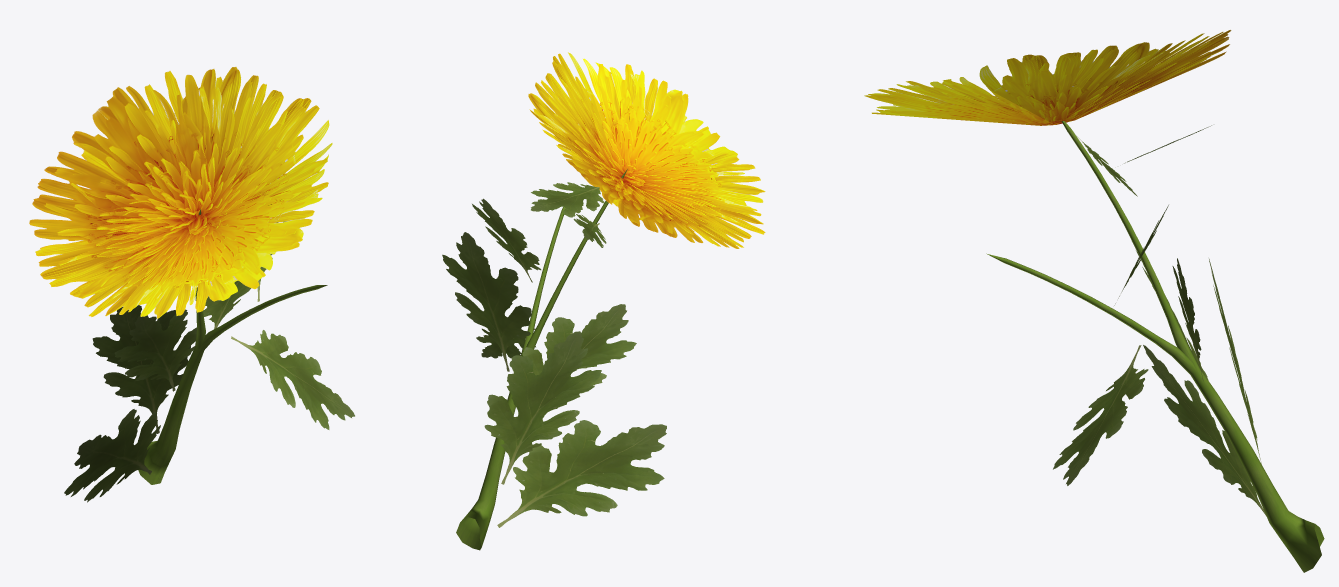
Rendered from bloem.fbx.
3 views of the same model, side by side, from view 1: azimuth 30°, elevation 25°; view 2: azimuth 150°, elevation 25°; view 3: azimuth 270°, elevation 25° (orthographic). The views are drawn at different scales.
Parts seen in each view (by area): view 1: flower dandelion_2, leaf daisy_1, plant01_0; view 2: leaf daisy_1, flower dandelion_2, plant01_0; view 3: flower dandelion_2, leaf daisy_1, plant01_0.
Part boxes in pixels (x1,y1,x2,y2): flower dandelion_2: (29, 67, 332, 318); leaf daisy_1: (64, 221, 354, 502); plant01_0: (138, 209, 327, 484); leaf daisy_1: (442, 182, 666, 527); flower dandelion_2: (528, 52, 765, 248); plant01_0: (456, 169, 627, 550); flower dandelion_2: (864, 30, 1231, 125); leaf daisy_1: (1053, 125, 1266, 515); plant01_0: (986, 121, 1324, 572).
Size of the model in its own units: 127 by 179 by 139.
3 materials, 3 textured.
